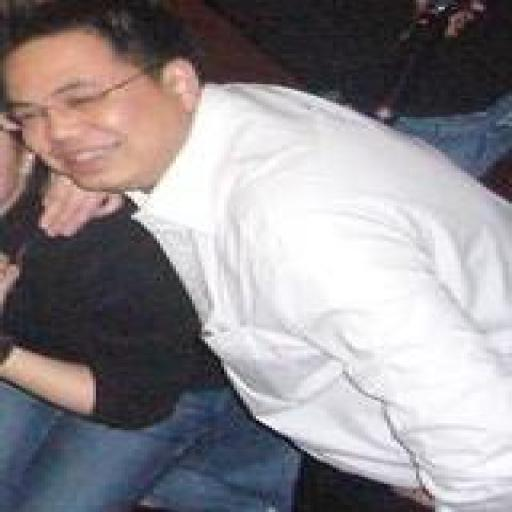person: (4, 0, 511, 511), (0, 131, 297, 511), (212, 0, 511, 177)
